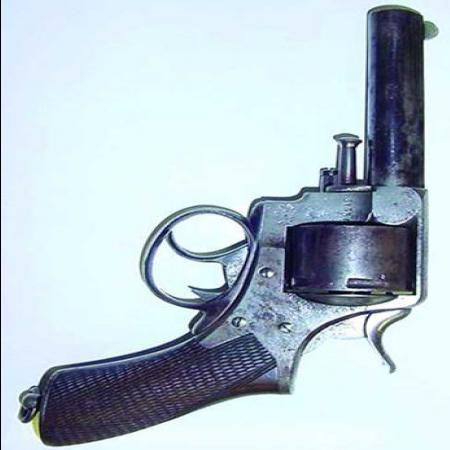Pistol: (15, 7, 438, 446)
